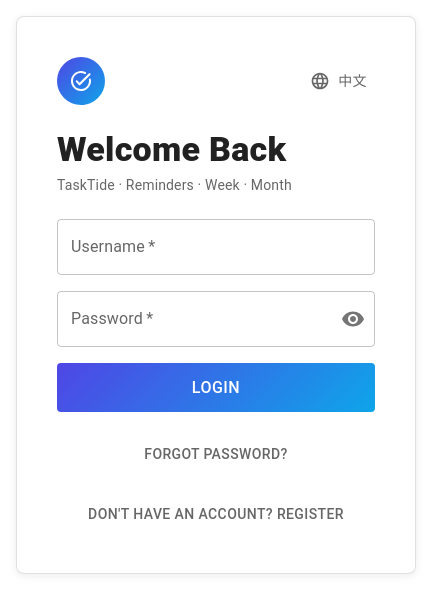
Test case: LoginPage behavior › keeps the language switch active when moving to registration mode
The width and height of the screenshot is (433, 592).
Click the button "中文".
click(341, 81)  # box [306,63,375,99]
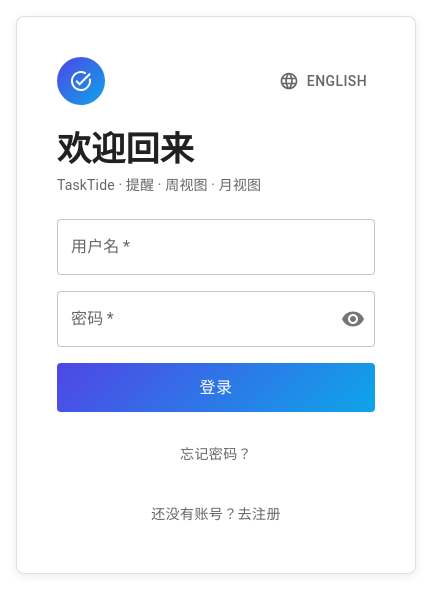
Click the button "还没有账号？去注册".
click(216, 515)  # box [57,496,375,533]
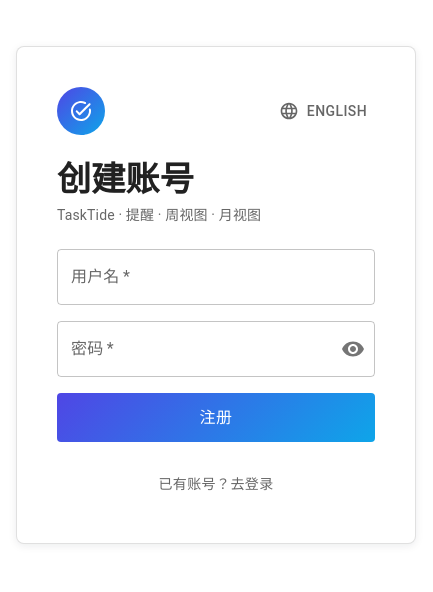
Expected: the heading "创建账号" is shown, [57,159,194,199]
Expected: the button "注册" is shown, [57,393,375,442]
Expected: the button "已有账号？去登录" is shown, [57,466,375,503]
